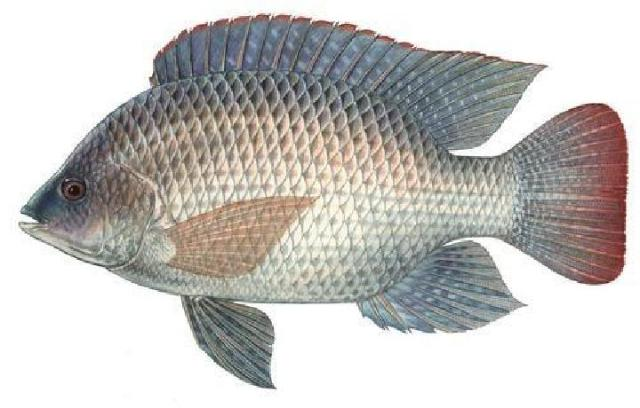Mulut: (8, 184, 54, 250)
Sirip Anal: (358, 233, 532, 342)
Sirip Dada: (160, 185, 330, 285), (175, 285, 293, 401)
Sirip Ekor: (494, 94, 630, 294)
Sirip Punggung: (147, 3, 547, 154)
